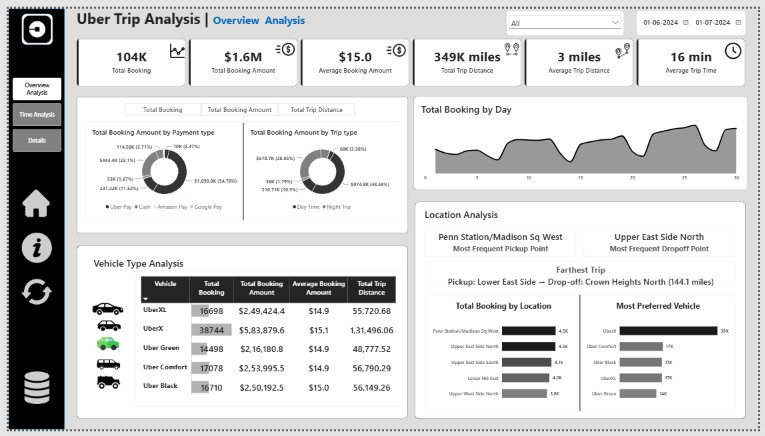

The dashboard page shown, as its layout file describes it:
{"tool":"powerbi","page":{"name":"Overview Analysis","canvas":[1920,1080],"ordinal":0},"visuals":[{"type":"shape","box":[0,0,143.1,1078.9],"z":0},{"type":"textbox","box":[174.9,0,649.6,68.1],"z":1000},{"type":"cardVisual","fields":{"Data":["Trip Details.Total Booking","Trip Details.Total Booking Amount","Trip Details.Average Booking Amount","Trip Details.Total Trip Distance","Trip Details.Average Trip Distance","Trip Details.Average Trip Time"]},"box":[174.9,77.2,1715.2,122.9],"z":2000},{"type":"image","box":[1271.8,79.9,36.9,49.1],"z":3000},{"type":"image","box":[1829.7,87.3,54.1,41.8],"z":4000},{"type":"image","box":[1556.9,87.3,39.3,41.8],"z":5000},{"type":"image","box":[679.6,79.9,59,49.1],"z":6000},{"type":"image","box":[964.7,82.4,59,49.1],"z":7000},{"type":"shape","box":[174.9,224.9,850,350],"z":8000},{"type":"image","box":[409.3,87.3,44.2,41.8],"z":9000},{"type":"slicer","fields":{"Values":["Dynamic Measures.Dynamic Measures"]},"box":[277.1,240.8,629.2,34.1],"z":10000},{"type":"donutChart","title":"Total Booking Amount by Payment type","fields":{"Category":["Trip Details.Payment_type"],"Y":["Trip Details.Total Booking","Trip Details.Total Booking Amount","Trip Details.Total Trip Distance Measure"]},"box":[197.6,290.7,404.3,249.8],"z":11000},{"type":"donutChart","title":"Total Booking Amount by Trip type","fields":{"Category":["Trip Details.Trip Type (D/N)"],"Y":["Trip Details.Total Booking","Trip Details.Total Booking Amount","Trip Details.Total Trip Distance Measure"]},"box":[601.9,290.7,404.3,249.8],"z":12000},{"type":"shape","box":[174.9,608.7,849.5,442.9],"z":13000},{"type":"pivotTable","fields":{"Rows":["Trip Details.Vehicle"],"Values":["Trip Details.Total Booking","Trip Details.Total Booking Amount","Trip Details.Average Booking Amount","Trip Details.Total Trip Distance Measure"]},"box":[322.3,670.8,699.3,348.6],"z":14000},{"type":"image","box":[216.7,781.3,79.5,61.3],"z":15000},{"type":"image","box":[226.9,831.3,59.1,56.8],"z":16000},{"type":"image","box":[213.3,879,86.3,65.9],"z":17000},{"type":"image","box":[205.3,929,102.2,59.1],"z":18000},{"type":"image","box":[193.1,724.5,124.9,88.6],"z":19000},{"type":"textbox","box":[217,635.7,548,35.1],"z":20000},{"type":"shape","box":[1038,224.9,851.7,238.5],"z":21000},{"type":"areaChart","fields":{"Category":["Calender Table.Date.Variation.Date Hierarchy.Day"],"Y":["Trip Details.Total Booking"]},"box":[1040.3,224.9,851.7,238.5],"z":22000},{"type":"shape","box":[1040.3,495.1,849.5,556.5],"z":23000},{"type":"cardVisual","fields":{"Data":["Trip Details.Most Frequent Pickup Point","Trip Details.Most Frequent Dropoff Point"]},"box":[1067.5,558.7,795,77.2],"z":24000},{"type":"cardVisual","fields":{"Data":["Trip Details.Farthest Trip"]},"box":[1069.8,649.6,795,68.1],"z":25000},{"type":"barChart","fields":{"Category":["Location Table.Location"],"Y":["Trip Details.Total Booking"]},"box":[1069.8,733.6,397.5,299.8],"z":26000},{"type":"barChart","title":"Most Preferred Vehicle","fields":{"Category":["Trip Details.Vehicle"],"Y":["CountNonNull(Trip Details.PULocationID)"]},"box":[1465,733.6,399.8,299.8],"z":27000},{"type":"shape","box":[583.1,291.6,39.5,249.9],"z":28000},{"type":"shape","box":[1446.9,734.4,37.3,299],"z":29000},{"type":"textbox","box":[1067.5,511,302.1,47.7],"z":30000},{"type":"slicer","fields":{"Values":["Calender Table.Date"]},"box":[1610.4,4.5,279.4,63.6],"z":31000},{"type":"slicer","fields":{"Values":["Location Table.City"]},"box":[1276.5,4.5,299.8,63.6],"z":32000},{"type":"group","id":"g1","title":"Group 1","box":[25,12.5,95,80],"z":33000},{"type":"shape","box":[32.5,12.5,80,80],"z":33000,"group":"g1"},{"type":"image","box":[25,17.5,95,70],"z":34000,"group":"g1"},{"type":"pageNavigator","box":[10,177.5,125,192.5],"z":34000},{"type":"image","box":[15,465,110,70],"z":36000},{"type":"image","box":[27.5,575,87.5,77.5],"z":37000},{"type":"image","box":[30,687.5,82.5,77.5],"z":38000},{"type":"image","box":[29.5,910.8,83.3,122.8],"z":39000}]}

Visuals, with their boxes in screenshot pixels (x1, y1, x2, y2), scaled from the page's 1920x1080 canvas onto the 765x436 screenshot:
shape: select_region(0, 0, 57, 435)
textbox: select_region(70, 0, 329, 27)
cardVisual - Trip Details.Total Booking x Trip Details.Total Booking Amount: select_region(70, 31, 753, 81)
image: select_region(507, 32, 521, 52)
image: select_region(729, 35, 751, 52)
image: select_region(620, 35, 636, 52)
image: select_region(271, 32, 294, 52)
image: select_region(384, 33, 408, 53)
shape: select_region(70, 91, 408, 232)
image: select_region(163, 35, 181, 52)
slicer - Dynamic Measures.Dynamic Measures: select_region(110, 97, 361, 111)
"Total Booking Amount by Payment type" donutChart: select_region(79, 117, 240, 218)
"Total Booking Amount by Trip type" donutChart: select_region(240, 117, 401, 218)
shape: select_region(70, 246, 408, 425)
pivotTable - Trip Details.Vehicle x Trip Details.Total Booking: select_region(128, 271, 407, 412)
image: select_region(86, 315, 118, 340)
image: select_region(90, 336, 114, 359)
image: select_region(85, 355, 119, 381)
image: select_region(82, 375, 123, 399)
image: select_region(77, 292, 127, 328)
textbox: select_region(86, 257, 305, 271)
shape: select_region(414, 91, 753, 187)
areaChart - Calender Table.Date.Variation.Date Hierarchy.Day x Trip Details.Total Booking: select_region(414, 91, 754, 187)
shape: select_region(414, 200, 753, 425)
cardVisual - Trip Details.Most Frequent Pickup Point x Trip Details.Most Frequent Dropoff Point: select_region(425, 226, 742, 257)
cardVisual - Trip Details.Farthest Trip: select_region(426, 262, 743, 290)
barChart - Location Table.Location x Trip Details.Total Booking: select_region(426, 296, 585, 417)
"Most Preferred Vehicle" barChart: select_region(584, 296, 743, 417)
shape: select_region(232, 118, 248, 219)
shape: select_region(576, 296, 591, 417)
textbox: select_region(425, 206, 546, 226)
slicer - Calender Table.Date: select_region(642, 2, 753, 27)
slicer - Location Table.City: select_region(509, 2, 628, 27)
"Group 1" group: select_region(10, 5, 48, 37)
shape: select_region(13, 5, 45, 37)
image: select_region(10, 7, 48, 35)
pageNavigator: select_region(4, 72, 54, 149)
image: select_region(6, 188, 50, 216)
image: select_region(11, 232, 46, 263)
image: select_region(12, 278, 45, 309)
image: select_region(12, 368, 45, 417)
